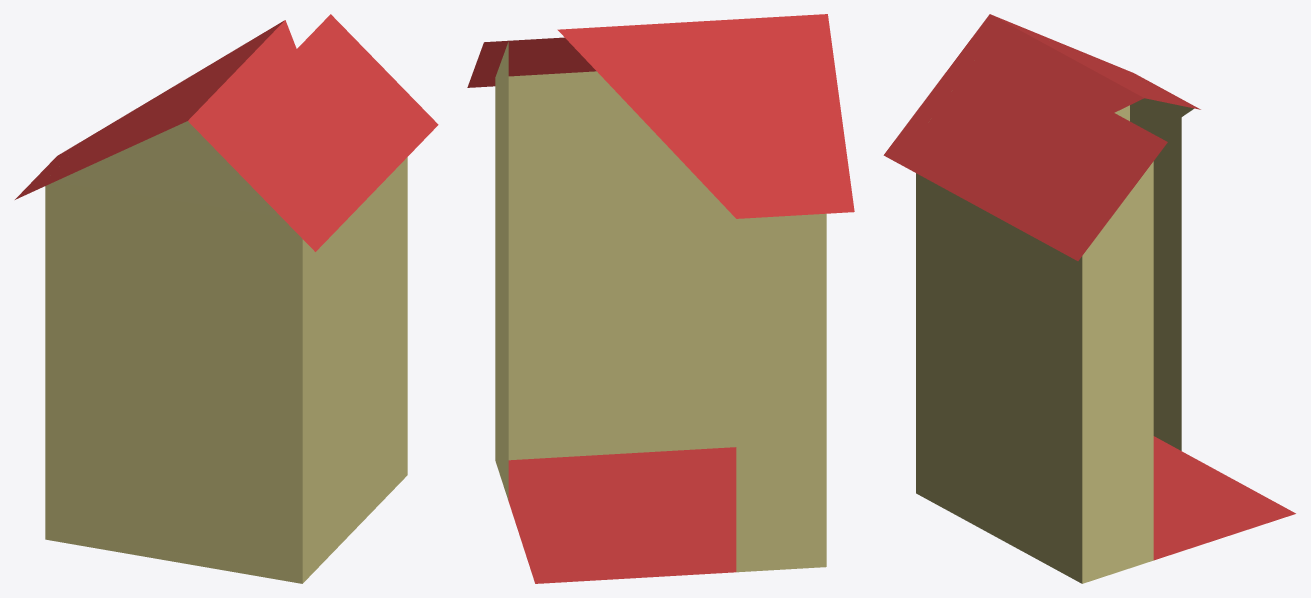
The picture shows the model from 3 angles, left to right: view 1: azimuth 30°, elevation 25°; view 2: azimuth 150°, elevation 25°; view 3: azimuth 270°, elevation 25°; orthographic projection. The views are drawn at different scales.
Size of the model in its own units: 9.65 by 8.95 by 10.58.
